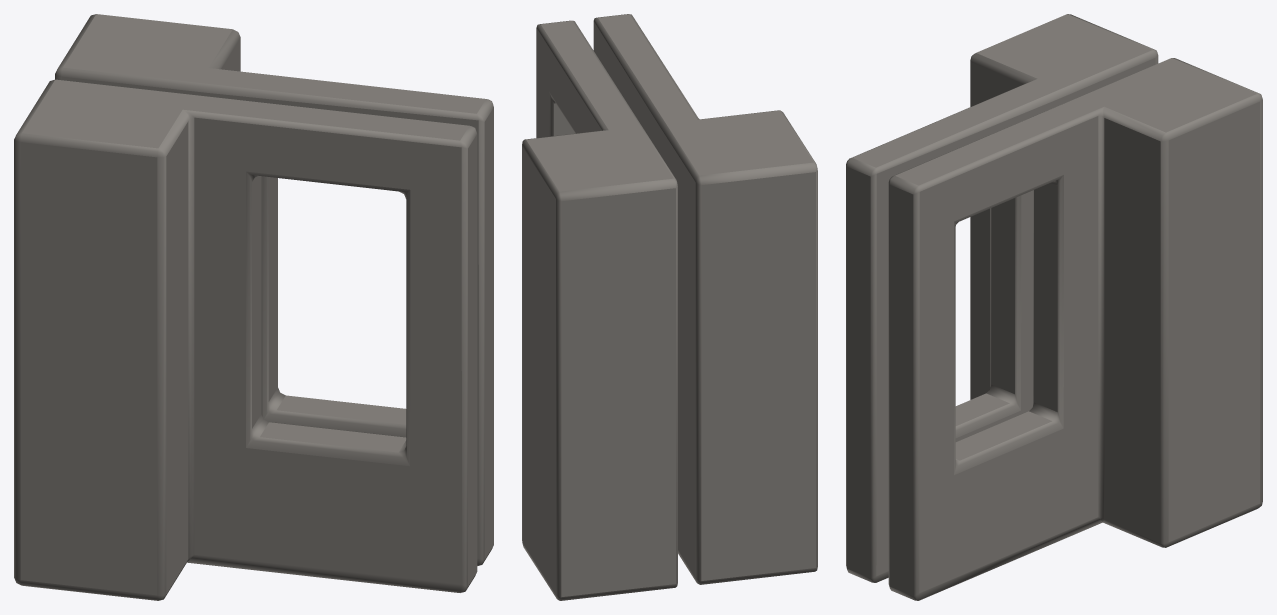
The model's file is loop.fbx.
3 views of the same model, side by side, from view 1: azimuth 30°, elevation 25°; view 2: azimuth 150°, elevation 25°; view 3: azimuth 270°, elevation 25° (orthographic). The views are drawn at different scales.
Visible parts, largest first — view 1: loop_l, loop_r; view 2: loop_r, loop_l; view 3: loop_r, loop_l.
Part boxes in pixels (x1,y1,x2,y2): loop_l: [14, 79, 477, 600]; loop_r: [55, 14, 493, 565]; loop_r: [522, 20, 677, 600]; loop_l: [593, 14, 817, 584]; loop_r: [888, 58, 1262, 600]; loop_l: [846, 14, 1158, 582].
Size of the model in its own units: 17.91 by 19.63 by 17.86.
1 material, 1 textured.
